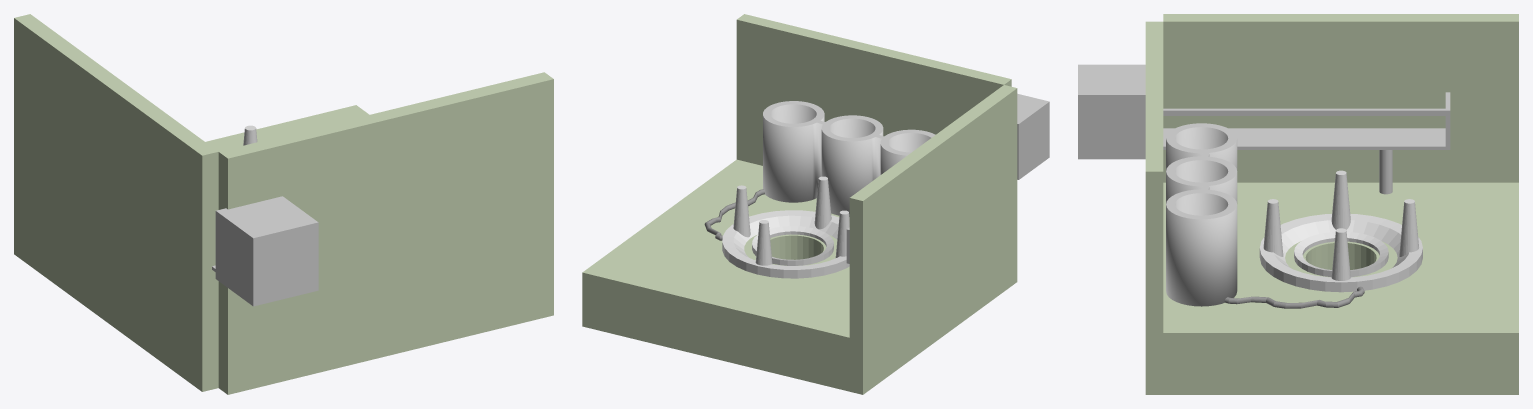
Rendered from Reaktorkernraum.fbx.
3 views of the same model, side by side, from view 1: azimuth 30°, elevation 25°; view 2: azimuth 150°, elevation 25°; view 3: azimuth 270°, elevation 25° (orthographic). The views are drawn at different scales.
Visible parts, largest first — view 1: Cube, Cube.002; view 2: Cube, Cylinder.002, Circle.001, Cylinder.001, Cube.002, Circle, Cylinder.004; view 3: Cube, Cylinder.002, Cube.001, Cube.002, Circle.001, Cylinder.001, Circle, Cylinder.004, Cylinder.003.
Boxes of the visible parts, x1=… form: Cube: x1=14, y1=14, x2=553, y2=394; Cube.002: x1=215, y1=196, x2=318, y2=306; Cube: x1=582, y1=14, x2=1017, y2=394; Cylinder.002: x1=763, y1=101, x2=935, y2=216; Circle.001: x1=722, y1=210, x2=849, y2=278; Cylinder.001: x1=733, y1=176, x2=849, y2=265; Cube.002: x1=1017, y1=93, x2=1049, y2=179; Circle: x1=752, y1=226, x2=833, y2=265; Cylinder.004: x1=704, y1=189, x2=764, y2=240; Cube: x1=1145, y1=14, x2=1518, y2=394; Cylinder.002: x1=1166, y1=123, x2=1237, y2=306; Cube.001: x1=1163, y1=92, x2=1450, y2=149; Cube.002: x1=1078, y1=64, x2=1145, y2=159; Circle.001: x1=1259, y1=213, x2=1422, y2=292; Cylinder.001: x1=1263, y1=170, x2=1418, y2=280; Circle: x1=1294, y1=232, x2=1388, y2=277; Cylinder.004: x1=1224, y1=286, x2=1364, y2=308; Cylinder.003: x1=1379, y1=150, x2=1392, y2=194.
Size of the model in its own units: 1050 by 693 by 1240.
